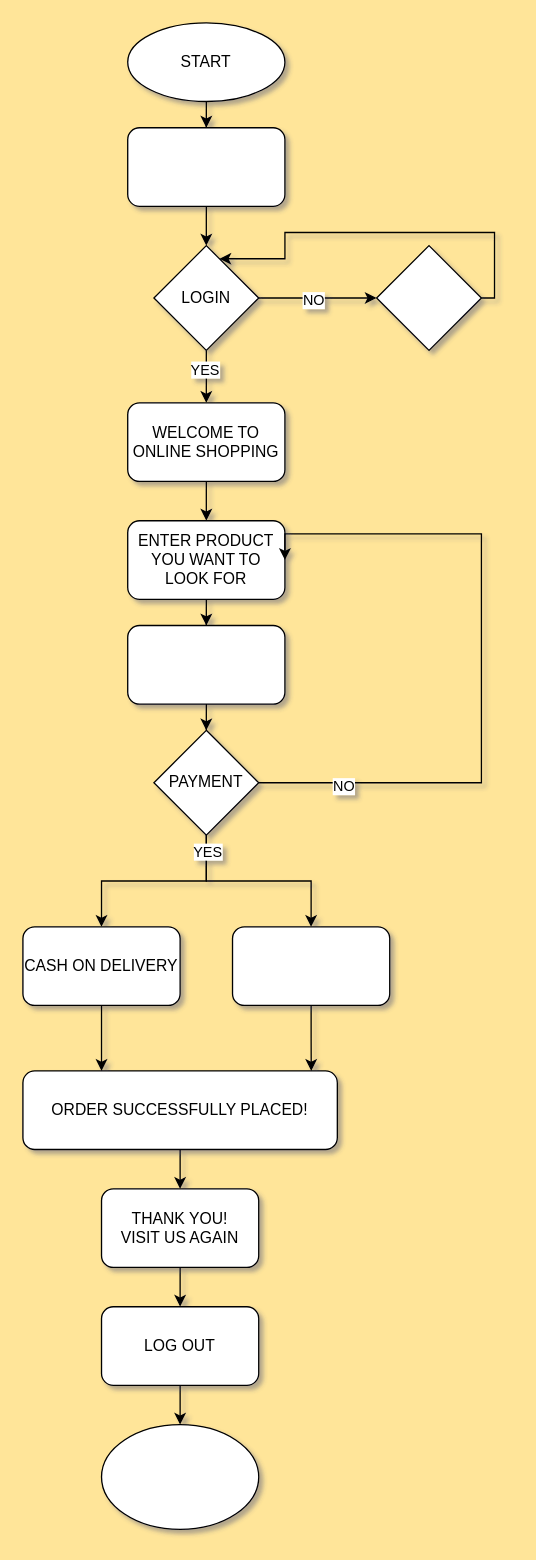
Some shapes in this 536 by 1560 pixel diagram are drawn without their labels. Here are the shapes that lost their labels. From the top down, the centre of each, then its label:
the point at 205,166: ADD YOUR LOGIN DETAILS TO CONTINUE
the point at 428,297: REGISTER
the point at 205,664: ADD TO CART
the point at 310,965: ONLINE PAYMENT
the point at 179,1476: END
